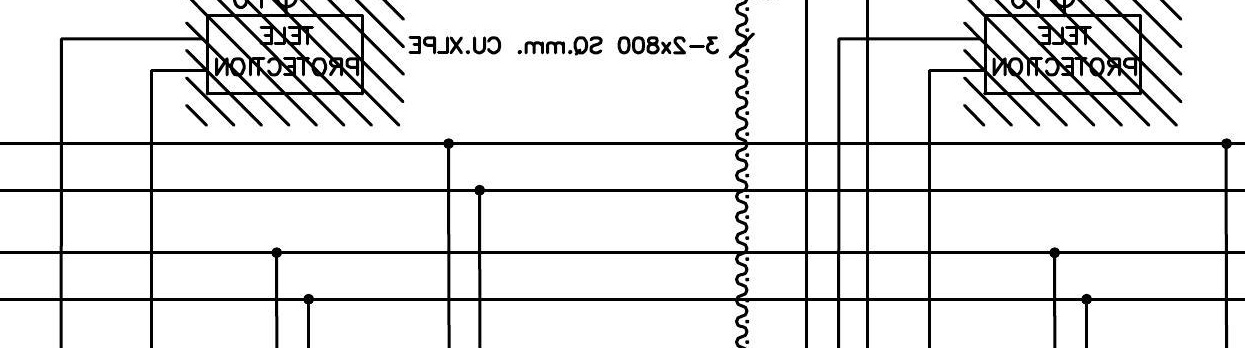tele_protection: (203, 11, 367, 98), (982, 12, 1145, 98)
